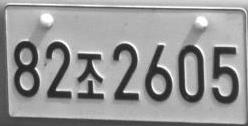0: (177, 44, 206, 103)
2: (112, 42, 140, 100), (45, 40, 72, 99)
5: (211, 45, 239, 104)
6: (144, 44, 173, 102)
8: (13, 40, 40, 97)
조: (76, 52, 104, 99)
